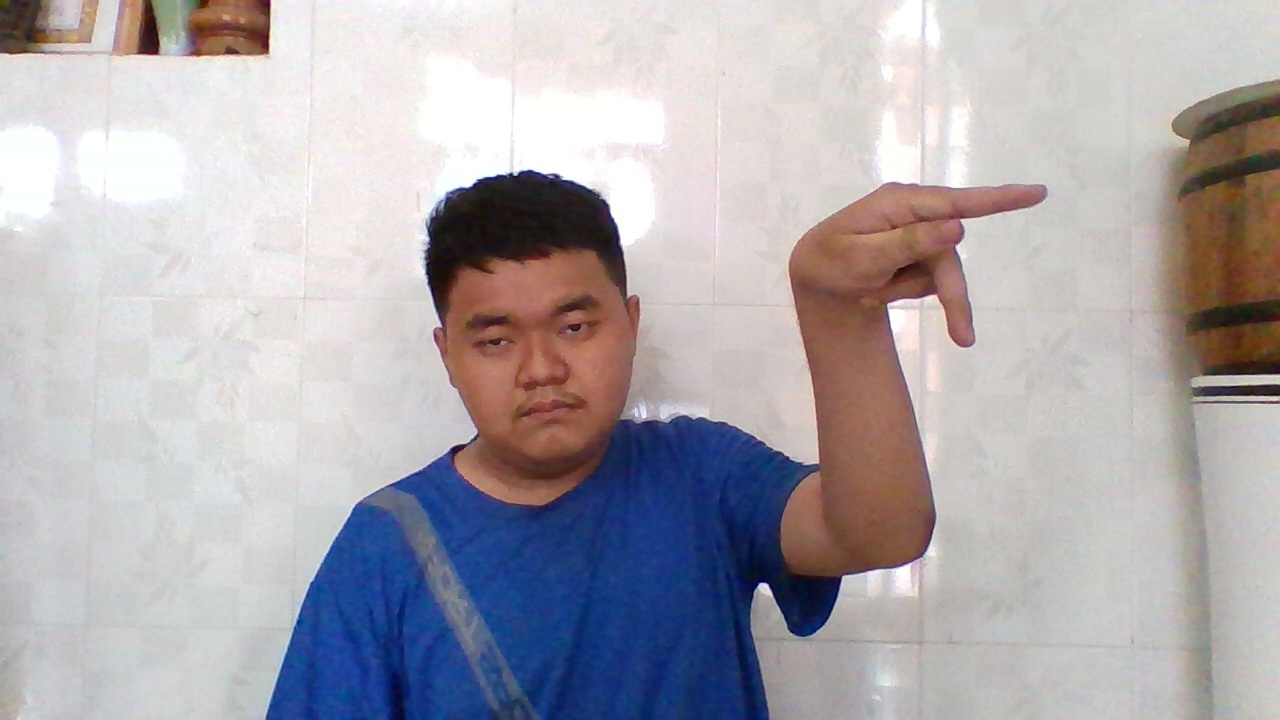P: (799, 179, 1053, 346)
